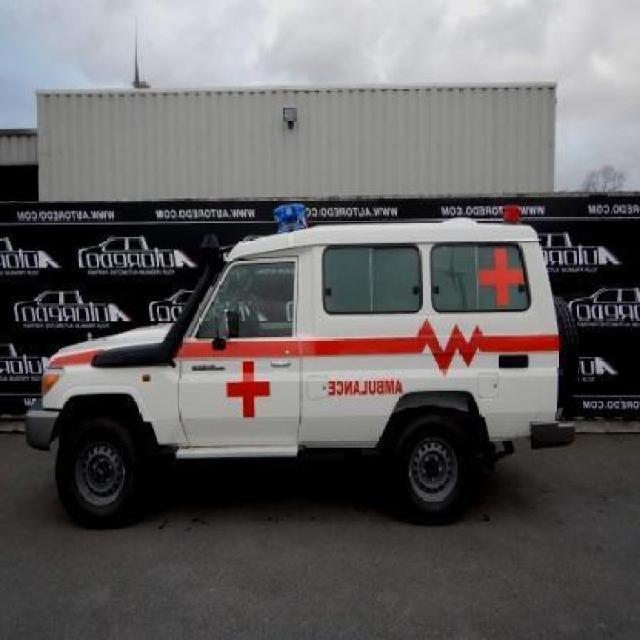emergency: (22, 210, 578, 530)
